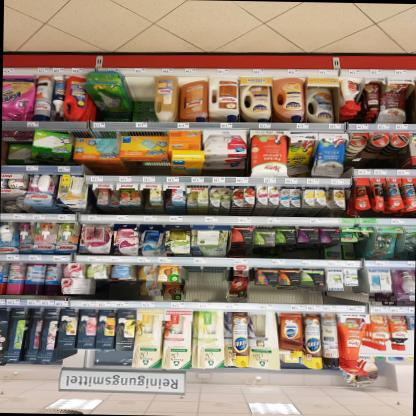empty_space: (183, 261, 224, 295), (129, 74, 152, 101)
